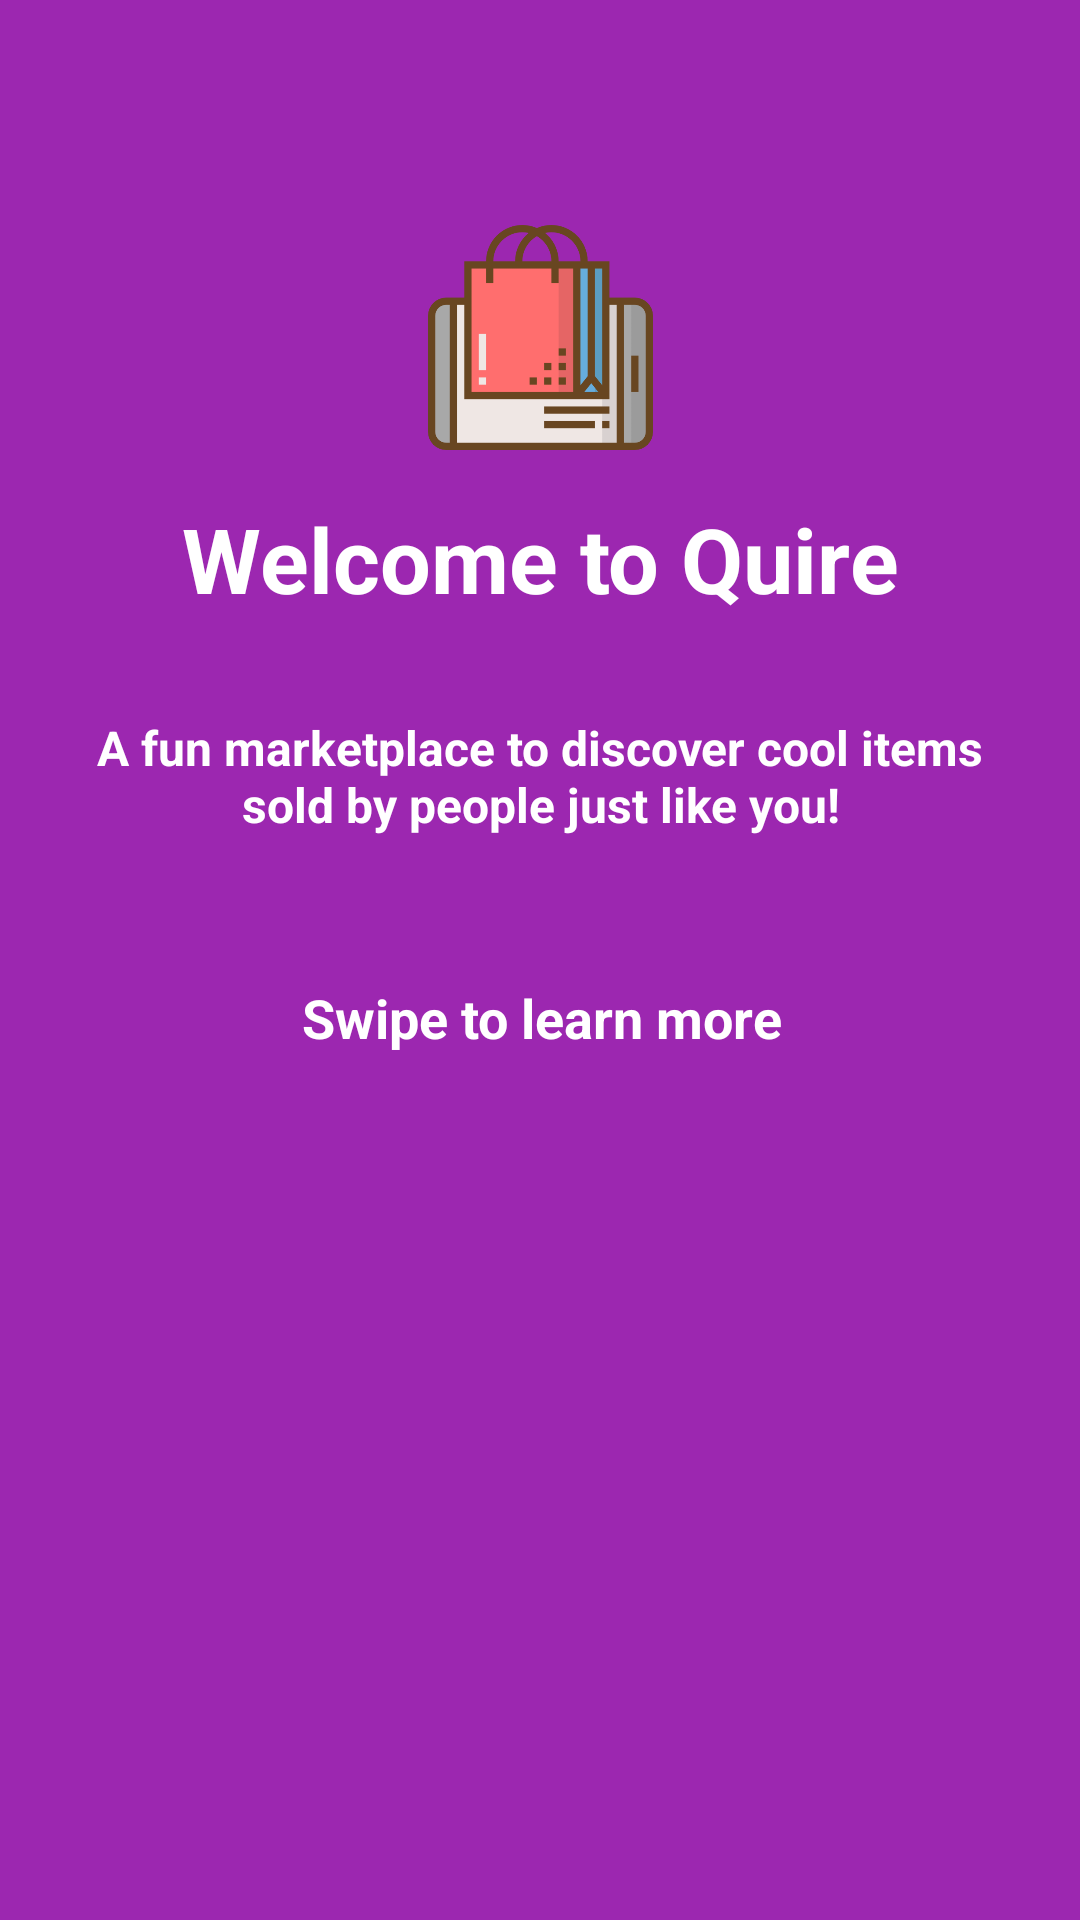

Icon bounding boxes for this 1080px x 1920px phone screenshot, format (x1,y1,x2,y2):
shopping: (428,225,653,450)
